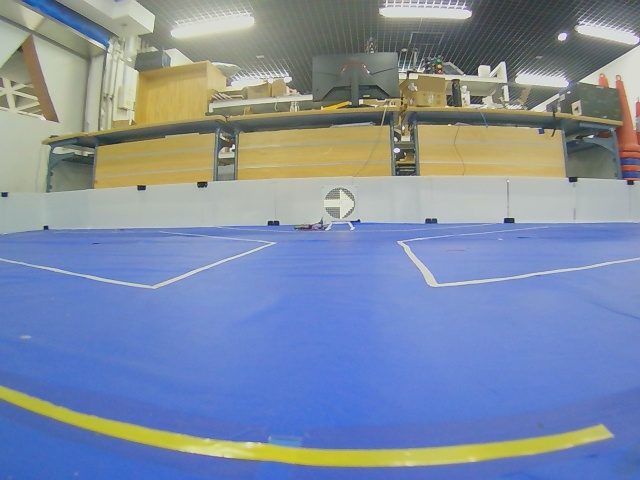right_yellow: (324, 187, 356, 219)
